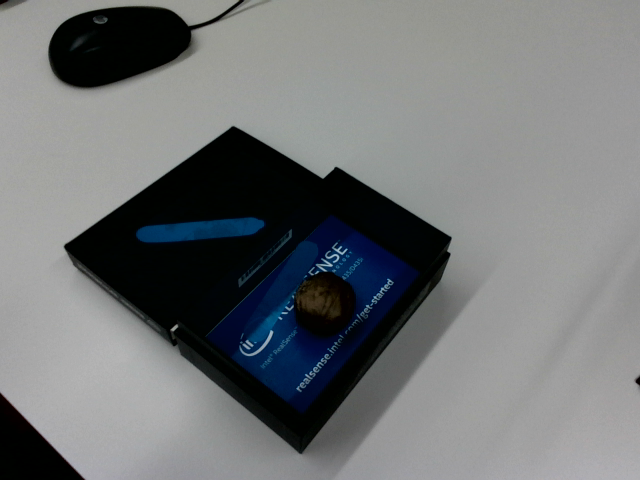walnut: (283, 262, 365, 344)
